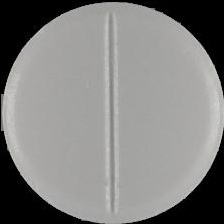0781-5515: (0, 0, 224, 224)
